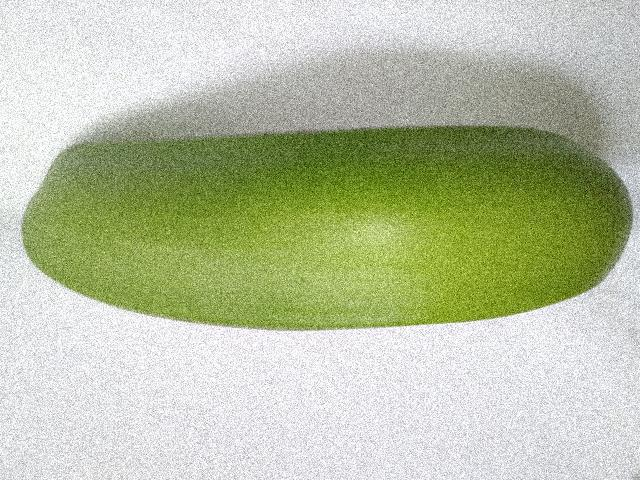freshunripe: (14, 108, 639, 341)
